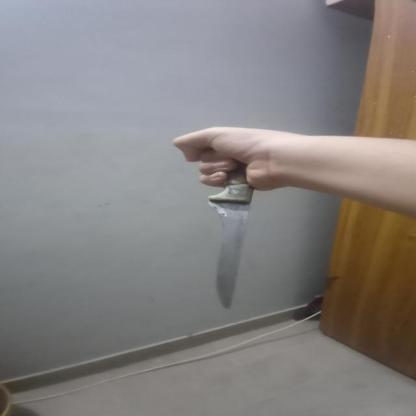Knife: (195, 143, 263, 315)
